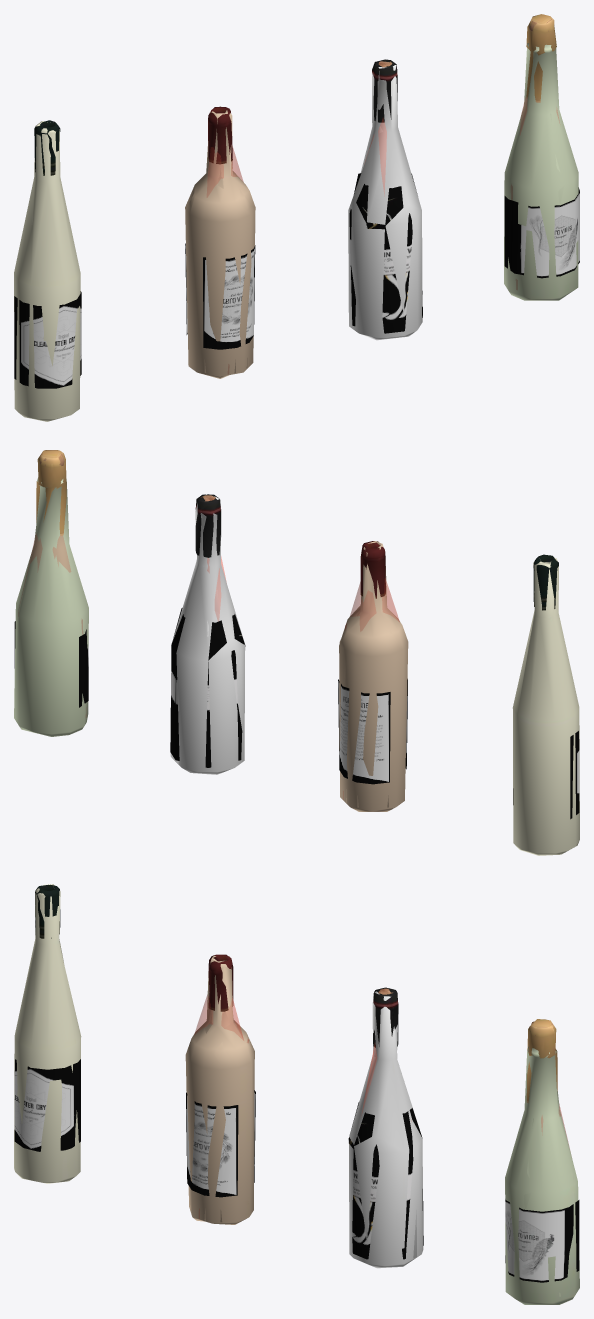
File: wine_bottles_01.glb
The picture shows the model from 3 angles, top to bottom: view 1: azimuth 30°, elevation 25°; view 2: azimuth 150°, elevation 25°; view 3: azimuth 330°, elevation 25°; orthographic projection.
Parts seen in each view (by area): view 1: wine_bottles_01_champagne, wine_bottles_01_alsace, wine_bottles_01_burgundy, wine_bottles_01_bordeaux; view 2: wine_bottles_01_champagne, wine_bottles_01_alsace, wine_bottles_01_bordeaux, wine_bottles_01_burgundy; view 3: wine_bottles_01_champagne, wine_bottles_01_alsace, wine_bottles_01_bordeaux, wine_bottles_01_burgundy.
Part boxes in pixels (box(x1,y1,x2,y2)): wine_bottles_01_champagne: box(504, 14, 579, 300); wine_bottles_01_alsace: box(14, 120, 81, 421); wine_bottles_01_burgundy: box(348, 59, 422, 340); wine_bottles_01_bordeaux: box(185, 106, 255, 378); wine_bottles_01_champagne: box(14, 450, 88, 736); wine_bottles_01_alsace: box(512, 554, 579, 855); wine_bottles_01_bordeaux: box(338, 541, 408, 811); wine_bottles_01_burgundy: box(170, 494, 245, 774); wine_bottles_01_champagne: box(505, 1019, 579, 1304); wine_bottles_01_alsace: box(14, 884, 81, 1183); wine_bottles_01_bordeaux: box(185, 954, 255, 1224); wine_bottles_01_burgundy: box(348, 987, 423, 1268).
Bounding box in the file's own units: 0.6753 × 0.3314 × 0.08.
Materials: 9 (6 with a texture image).
